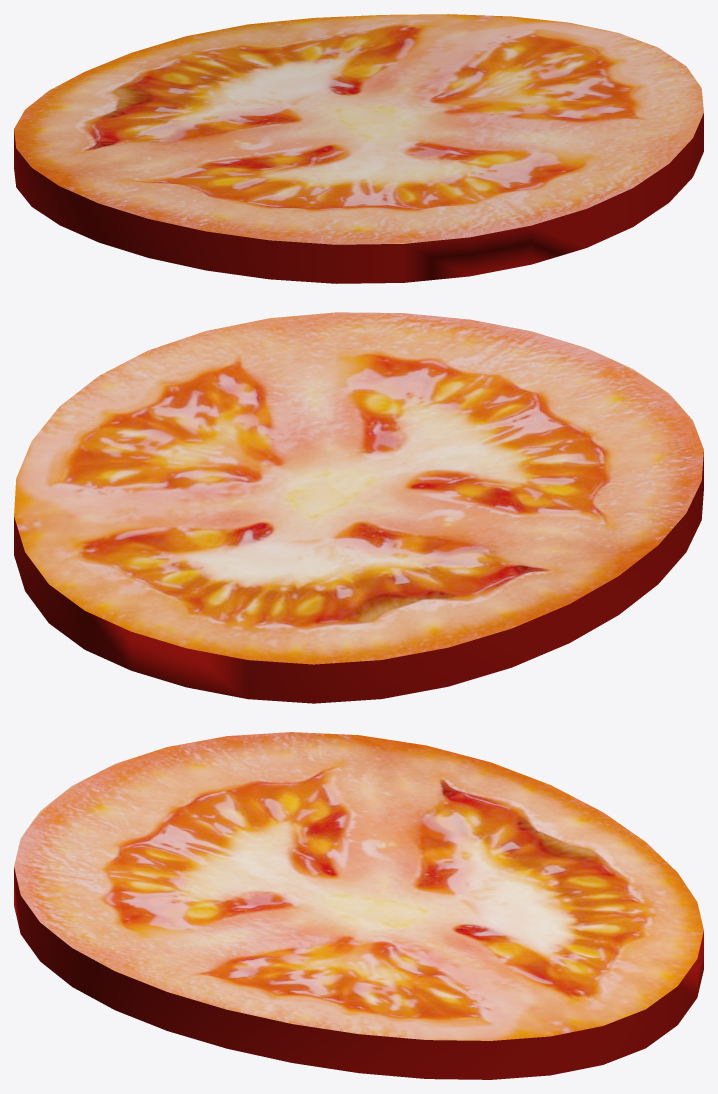
Rendered from tomatoslice.fbx.
The picture shows the model from 3 angles, top to bottom: view 1: azimuth 30°, elevation 25°; view 2: azimuth 150°, elevation 25°; view 3: azimuth 270°, elevation 25°; orthographic projection.
Parts seen in each view (by area): view 1: Cylinder.008; view 2: Cylinder.008; view 3: Cylinder.008.
Boxes of the visible parts, box(x1,y1,x2,y2) form: Cylinder.008: box(14, 14, 703, 283); Cylinder.008: box(14, 312, 703, 703); Cylinder.008: box(14, 732, 703, 1079).
Bounding box in the file's own units: 45.23 × 7.42 × 45.23.
